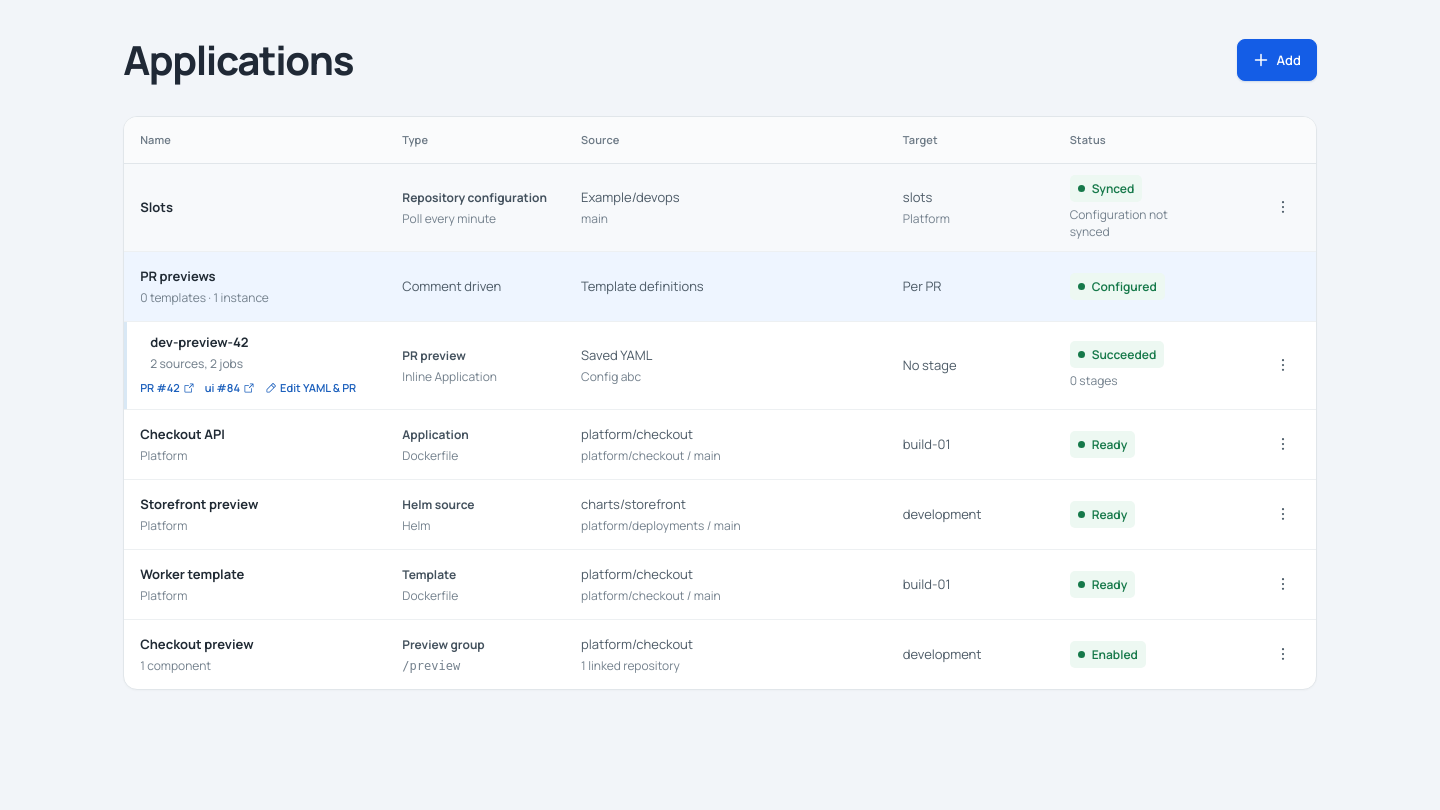
it: applications overview › lists temporary PR previews outside their credential source and opens the saved comment settings
Expected: the row "PR previews" is shown, [124,251,1316,321]
Expected: the row "dev-preview-42" is shown, [124,321,1316,409]
Click the button with aria-label "Edit dev-preview-42 preview" at (311, 388), box [265,378,356,398]
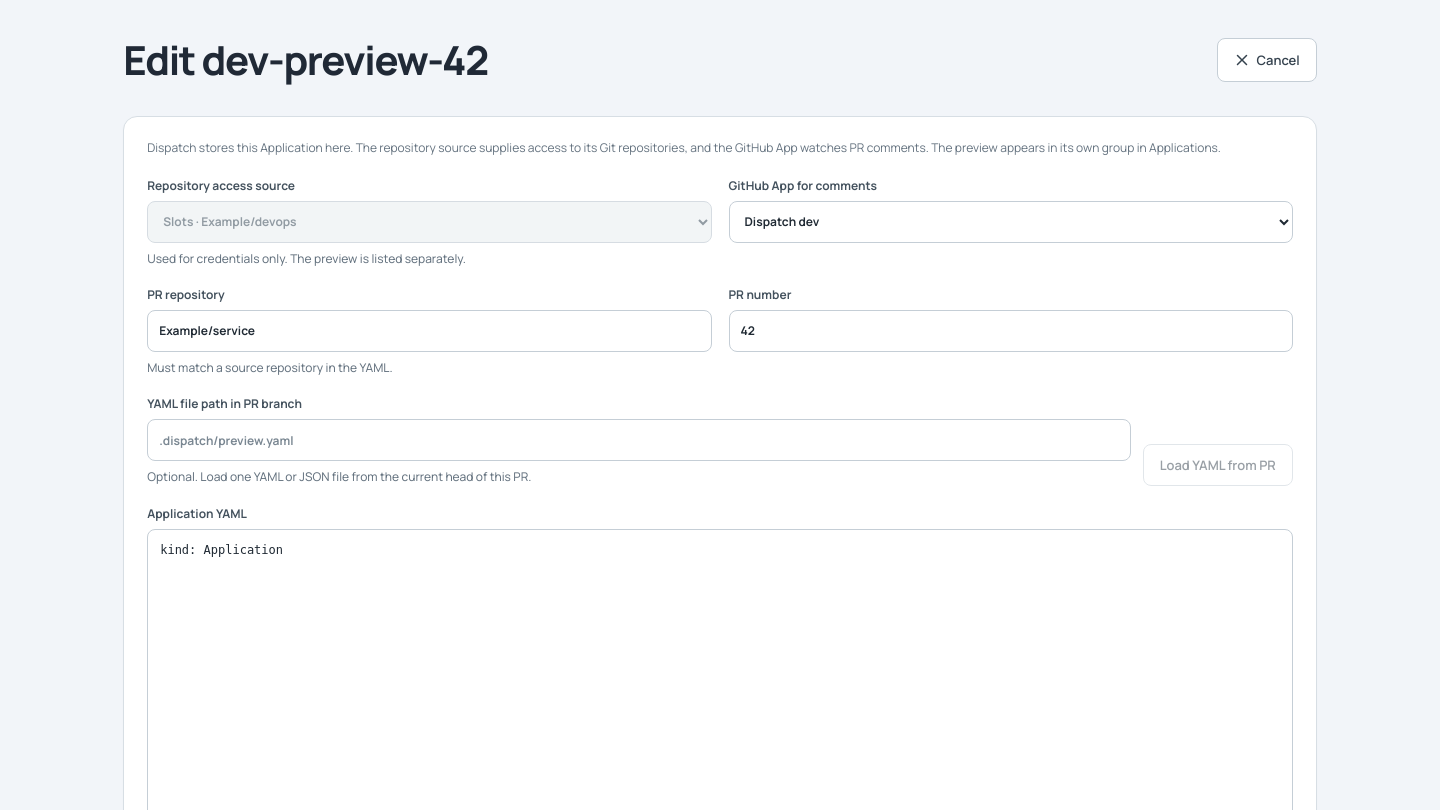
Result: the heading "Edit dev-preview-42" is shown at [123,36,488,84]
Result: the number field labelled "PR number" holds "42" at [728,310,1293,352]
